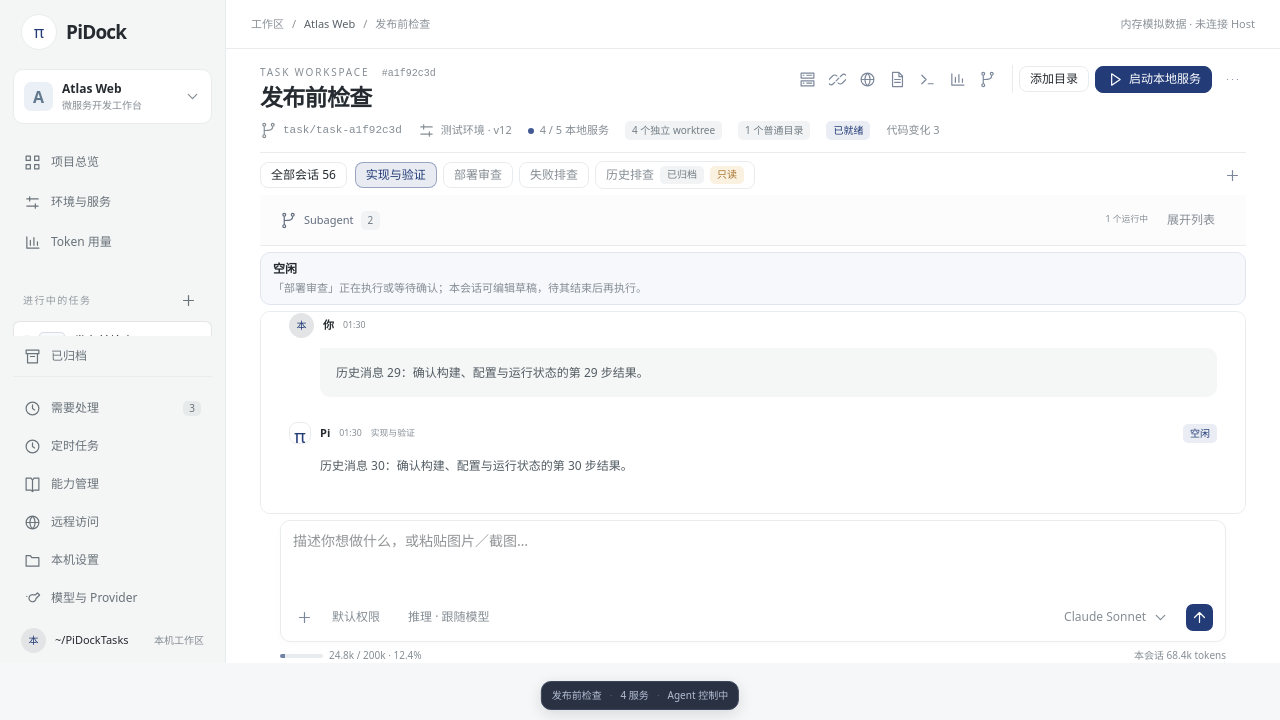
Test: task tool area and file panel › starts with no tool panel open and opens the file browser on demand
(page scrolled)
Expected: the heading "发布前检查" is shown, [260,81,372,113]
Click the button named "文件": (898, 79) [884,65,912,93]
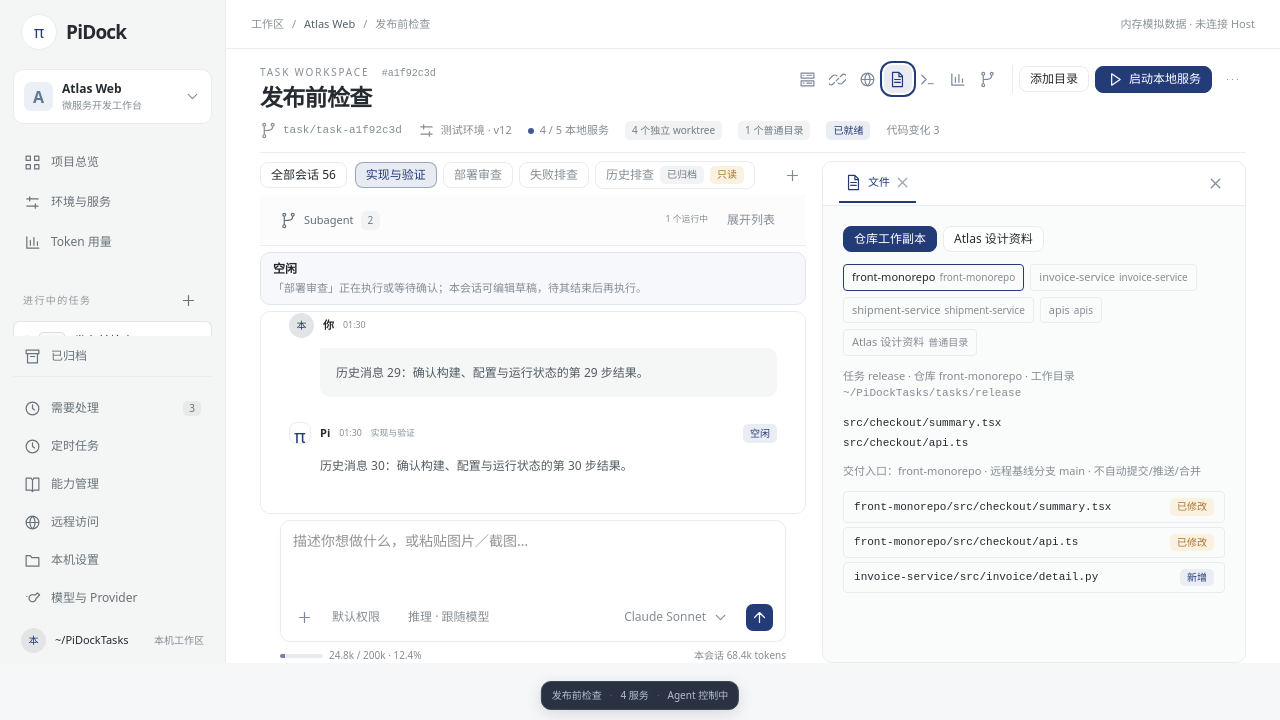
Now the button "front-monorepo" is shown, box [843,264,1024,290]
Now the button "普通目录" is shown, box [843,329,977,356]
Now the text with test id "delivery-target" shows "不自动提交/推送/合并", box [1085,463,1201,478]
Click the button named "收起工具区": (1215, 184) [1201,170,1229,198]
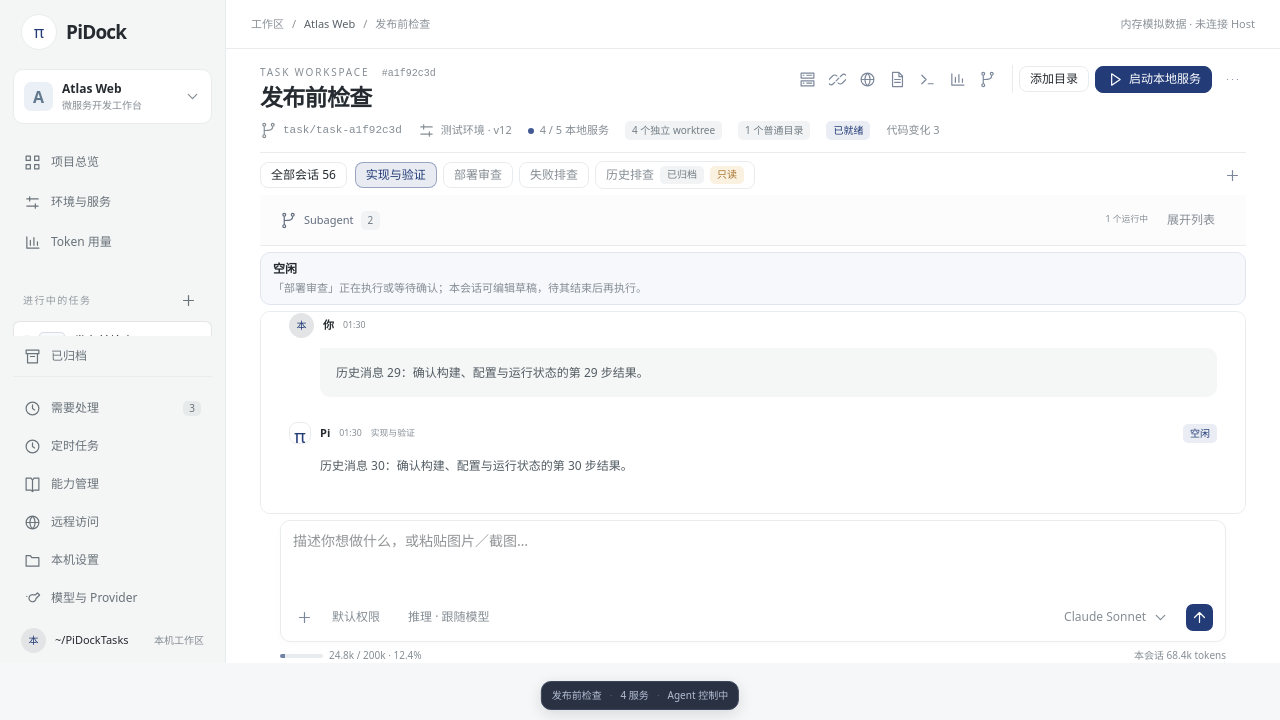
Now the element with test id "file-roots" is gone
Now the element with test id "task-rail" is gone
